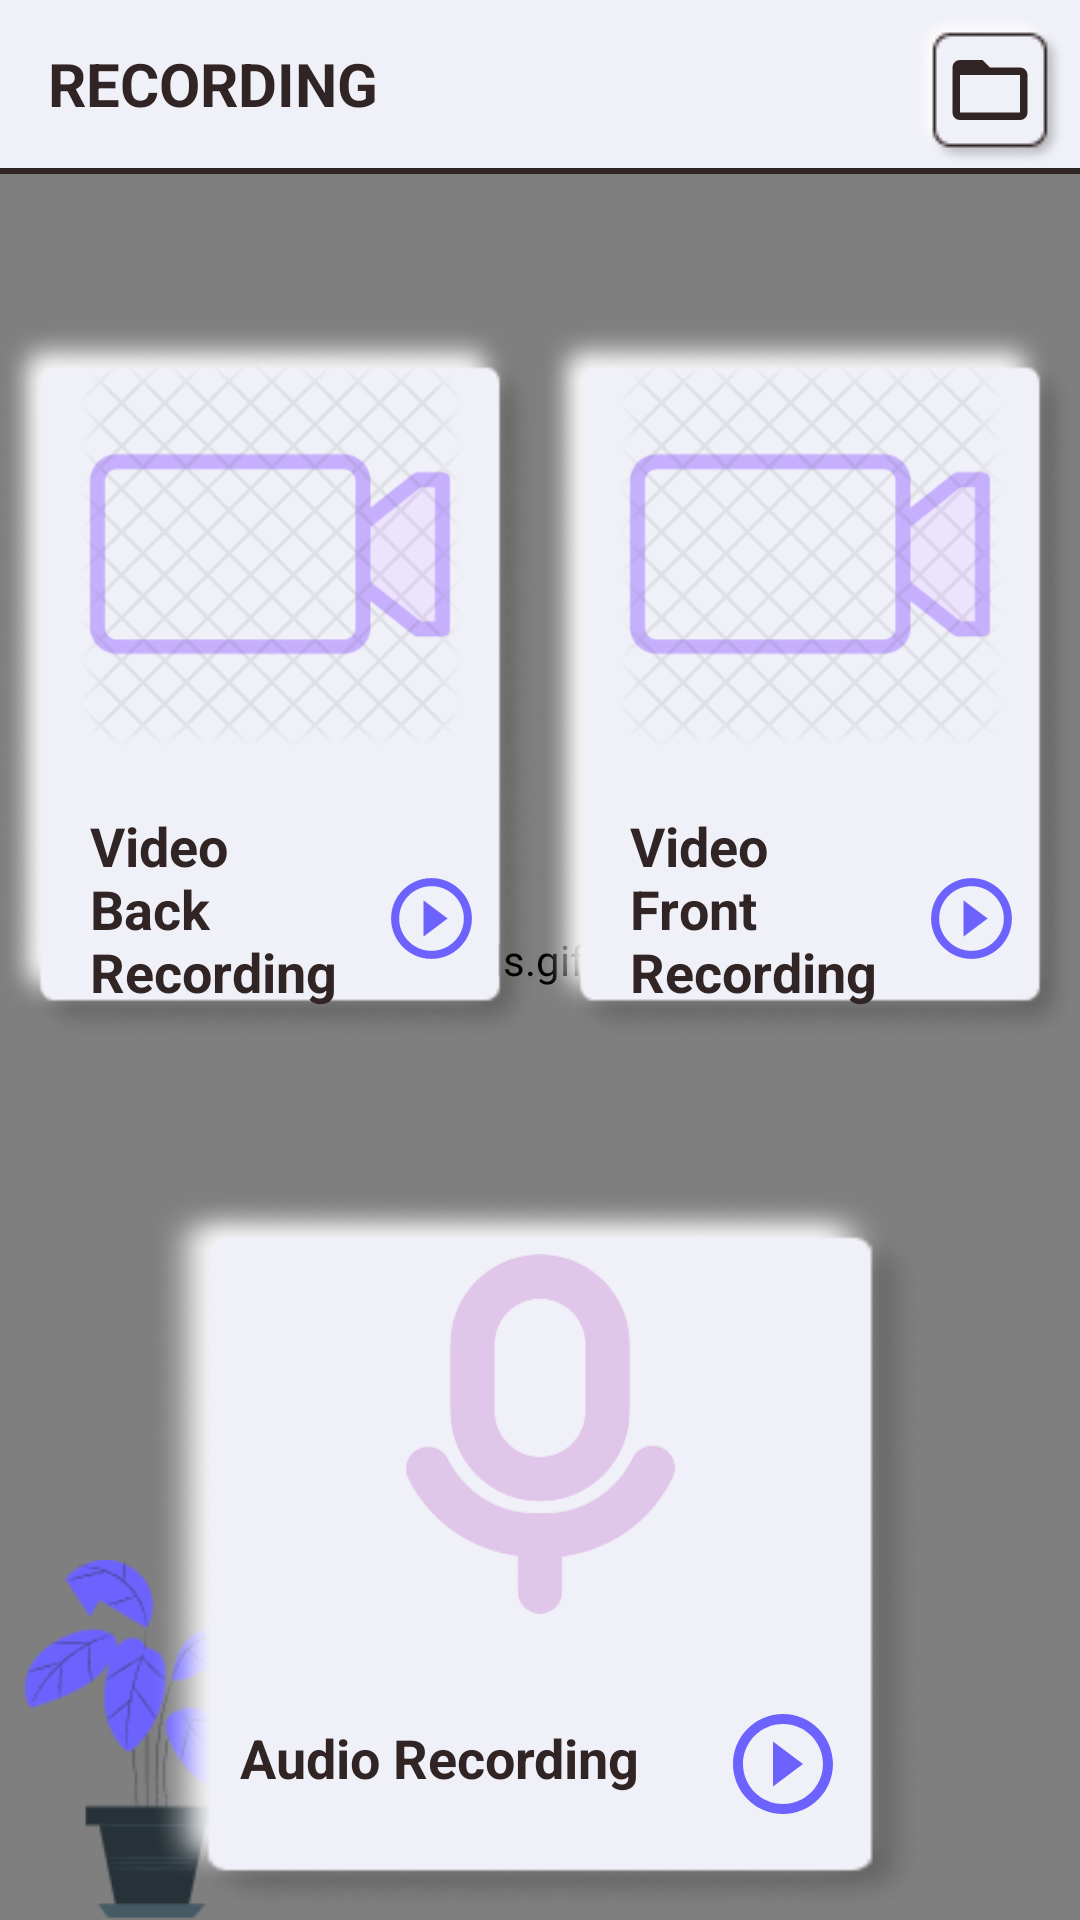

Screen size 1080px x 1920px. Icon name, then its center in pixels as point (x, y):
folder open: point (993, 93)
imggamla: point (150, 1740)
play circle: point (431, 918), point (971, 918), point (783, 1764)
